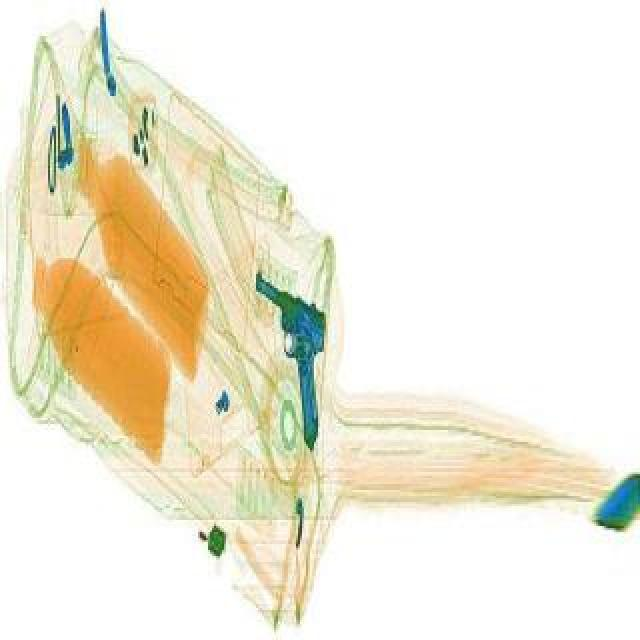gun: (250, 260, 352, 452)
